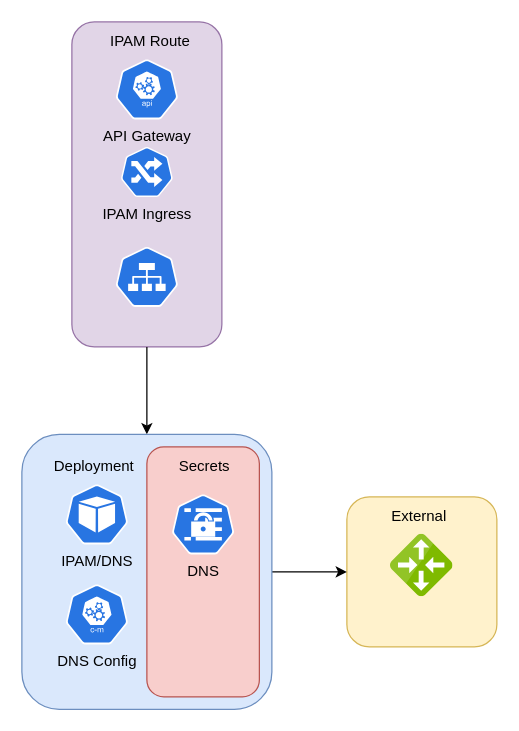
Some shapes in this 519 by 731 pixel diagram are drawn without their labels. Each missing label, with the box of its shape:
IPAM Service: (114, 246, 178, 307)
Mikrotik DNS: (390, 534, 452, 596)
